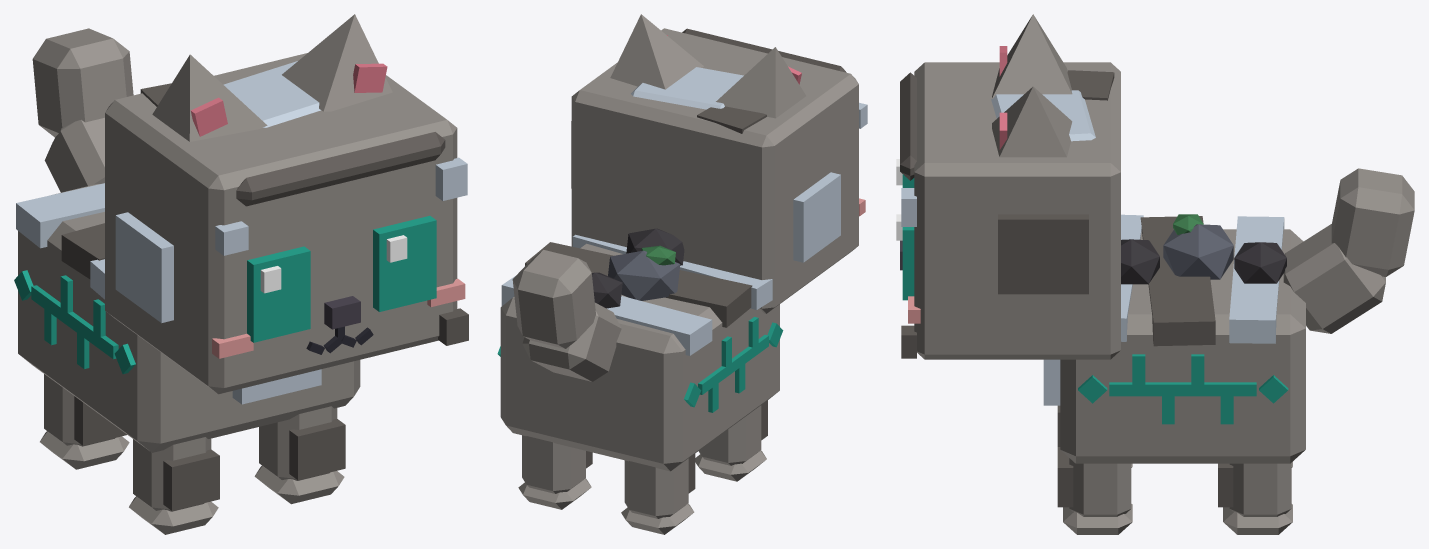
Rendered from CatCafe_Cat_Golem.glb.
3 renders of one model, left to right at view 1: azimuth 30°, elevation 25°; view 2: azimuth 150°, elevation 25°; view 3: azimuth 270°, elevation 25°, orthographic. The views are drawn at different scales.
Parts seen in each view (by area): view 1: CatCafe_Cat_Golem_Head, CatCafe_Cat_Golem_Body, CatCafe_Cat_Golem_Tail, CatCafe_Cat_Golem_LegF2, CatCafe_Cat_Golem_LegF1, CatCafe_Cat_Golem_EarL, CatCafe_Cat_Golem_Eye1, CatCafe_Cat_Golem_Eye2, CatCafe_Cat_Golem_EarR, CatCafe_Cat_Golem_LegB2, CatCafe_Cat_Golem_Runes; view 2: CatCafe_Cat_Golem_Head, CatCafe_Cat_Golem_Body, CatCafe_Cat_Golem_Tail, CatCafe_Cat_Golem_Prop, CatCafe_Cat_Golem_LegB2, CatCafe_Cat_Golem_LegB1, CatCafe_Cat_Golem_EarL, CatCafe_Cat_Golem_EarR, CatCafe_Cat_Golem_LegF2, CatCafe_Cat_Golem_Runes; view 3: CatCafe_Cat_Golem_Head, CatCafe_Cat_Golem_Body, CatCafe_Cat_Golem_Tail, CatCafe_Cat_Golem_Prop, CatCafe_Cat_Golem_LegF1, CatCafe_Cat_Golem_LegB1, CatCafe_Cat_Golem_Runes, CatCafe_Cat_Golem_EarL, CatCafe_Cat_Golem_EarR, CatCafe_Cat_Golem_Eye1.
Boxes of the visible parts, <box> form: CatCafe_Cat_Golem_Head: <box>105,53,468,394</box>; CatCafe_Cat_Golem_Body: <box>16,183,360,452</box>; CatCafe_Cat_Golem_Tail: <box>32,28,133,192</box>; CatCafe_Cat_Golem_LegF2: <box>129,437,219,534</box>; CatCafe_Cat_Golem_LegF1: <box>254,406,345,504</box>; CatCafe_Cat_Golem_EarL: <box>282,14,392,111</box>; CatCafe_Cat_Golem_Eye1: <box>373,215,436,311</box>; CatCafe_Cat_Golem_Eye2: <box>247,246,310,342</box>; CatCafe_Cat_Golem_EarR: <box>152,54,267,141</box>; CatCafe_Cat_Golem_LegB2: <box>40,374,129,469</box>; CatCafe_Cat_Golem_Runes: <box>14,270,135,374</box>; CatCafe_Cat_Golem_Head: <box>571,28,867,313</box>; CatCafe_Cat_Golem_Body: <box>500,234,779,471</box>; CatCafe_Cat_Golem_Tail: <box>512,250,621,381</box>; CatCafe_Cat_Golem_Prop: <box>592,228,684,308</box>; CatCafe_Cat_Golem_LegB2: <box>621,454,695,534</box>; CatCafe_Cat_Golem_LegB1: <box>518,435,592,509</box>; CatCafe_Cat_Golem_EarL: <box>610,14,703,89</box>; CatCafe_Cat_Golem_EarR: <box>716,47,805,118</box>; CatCafe_Cat_Golem_LegF2: <box>695,400,767,481</box>; CatCafe_Cat_Golem_Runes: <box>497,317,783,412</box>; CatCafe_Cat_Golem_Head: <box>900,62,1120,359</box>; CatCafe_Cat_Golem_Body: <box>1043,214,1305,463</box>; CatCafe_Cat_Golem_Tail: <box>1283,168,1414,333</box>; CatCafe_Cat_Golem_Prop: <box>1121,214,1286,284</box>; CatCafe_Cat_Golem_LegF1: <box>1057,447,1132,534</box>; CatCafe_Cat_Golem_LegB1: <box>1218,463,1292,534</box>; CatCafe_Cat_Golem_Runes: <box>1078,354,1288,424</box>; CatCafe_Cat_Golem_EarL: <box>992,86,1072,157</box>; CatCafe_Cat_Golem_EarR: <box>992,14,1072,98</box>; CatCafe_Cat_Golem_Eye1: <box>896,214,914,300</box>.
Bounding box in the file's own units: 1.32 × 2.3 × 2.41.
1 material, 1 textured.
